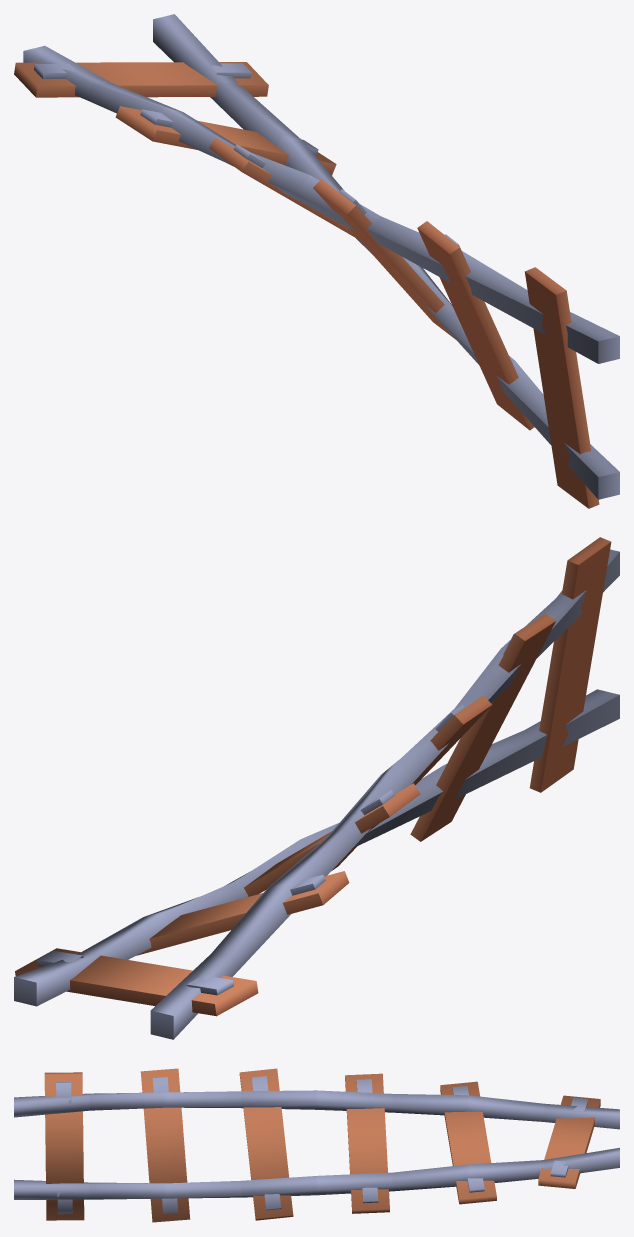
The model's file is railroad-damaged-straight-skew-left-side.glb.
3 views of the same model, one above another, from view 1: azimuth 30°, elevation 25°; view 2: azimuth 150°, elevation 25°; view 3: azimuth 270°, elevation 25° (orthographic). The views are drawn at different scales.
Visible parts, largest first — view 1: railroad-damaged-straight-skew-left-side; view 2: railroad-damaged-straight-skew-left-side; view 3: railroad-damaged-straight-skew-left-side.
Boxes of the visible parts, left/top/right/bottom form: railroad-damaged-straight-skew-left-side: left=14, top=14, right=619, bottom=508; railroad-damaged-straight-skew-left-side: left=14, top=537, right=619, bottom=1039; railroad-damaged-straight-skew-left-side: left=14, top=1068, right=619, bottom=1222.
Bounding box in the file's own units: 1.02 × 0.9981 × 4.
